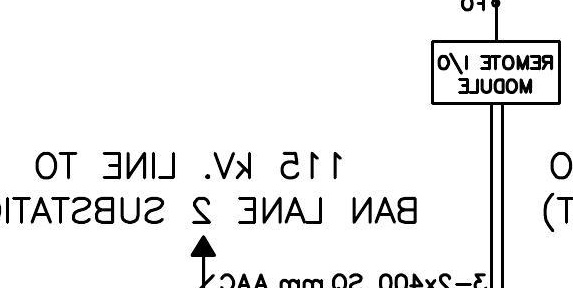remote_io_module: (431, 40, 562, 106)
